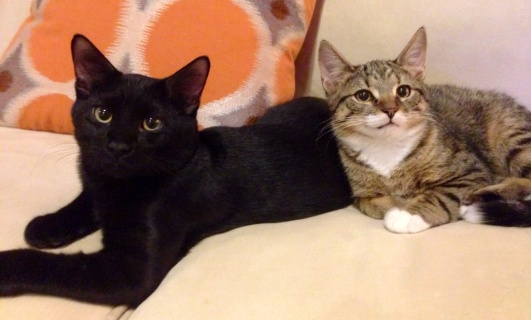Cat: (0, 31, 354, 307), (313, 23, 530, 231)
